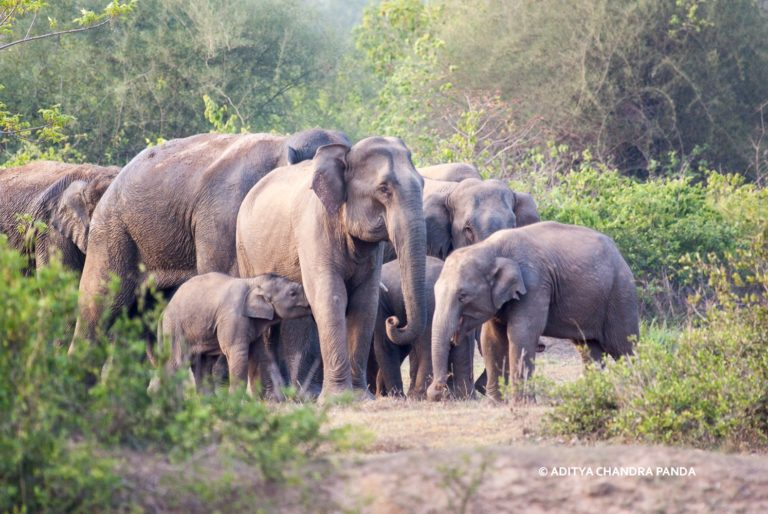Indian Elephant: (237, 148, 427, 405), (71, 119, 346, 285), (423, 218, 653, 402), (145, 262, 312, 405)
